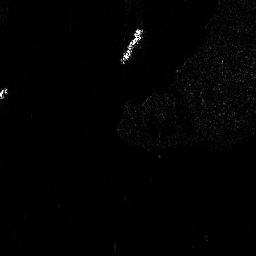ship: (119, 27, 145, 64)
